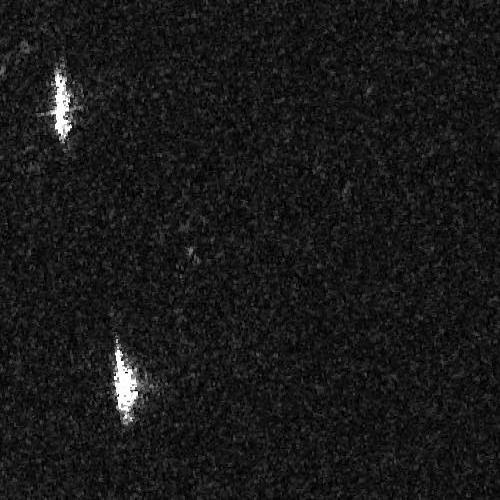ship: (113, 342, 137, 426), (54, 70, 72, 143)
